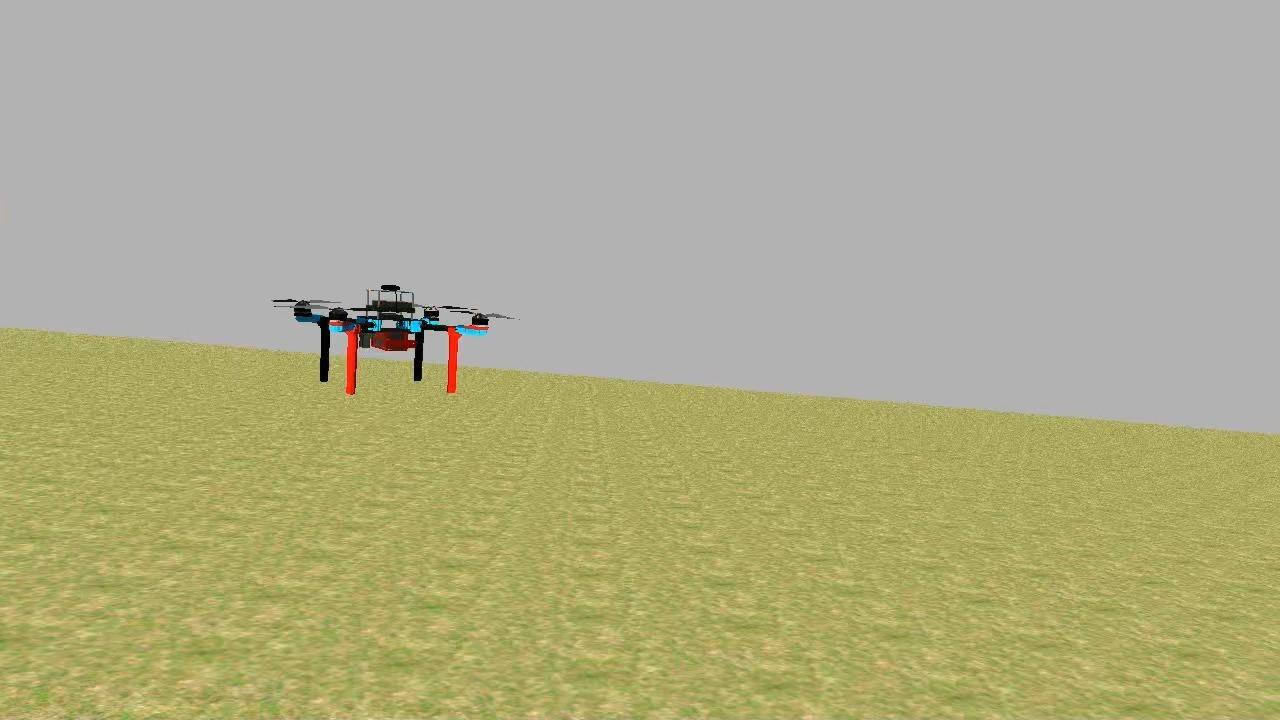UAV: (286, 278, 498, 402)
